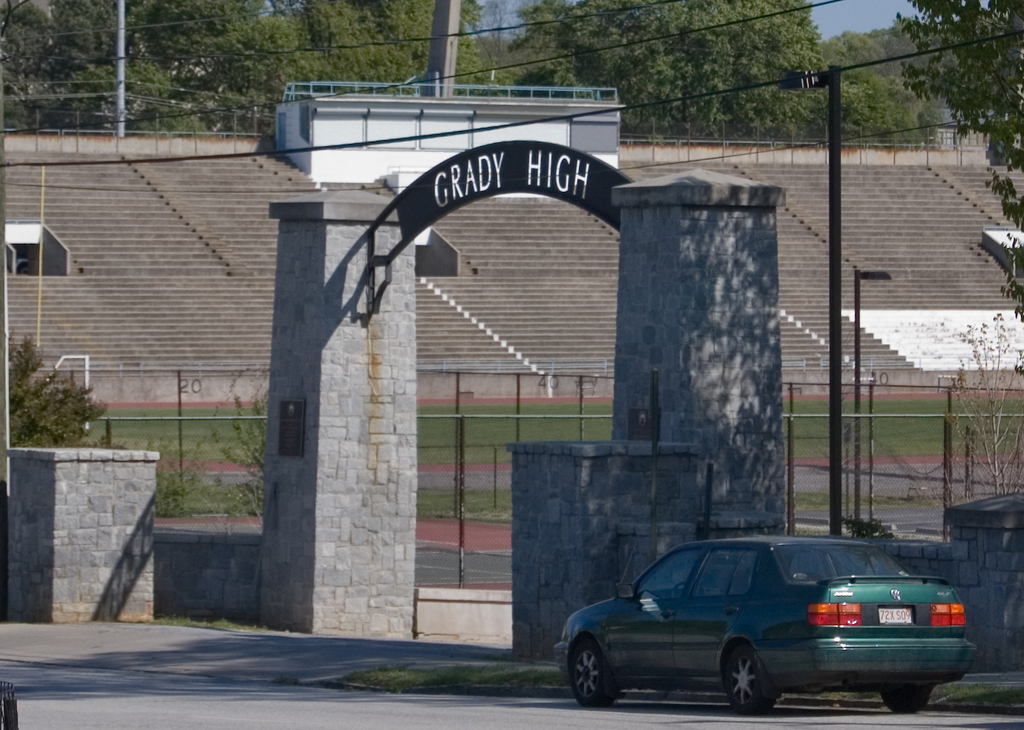Car: (551, 534, 976, 717)
